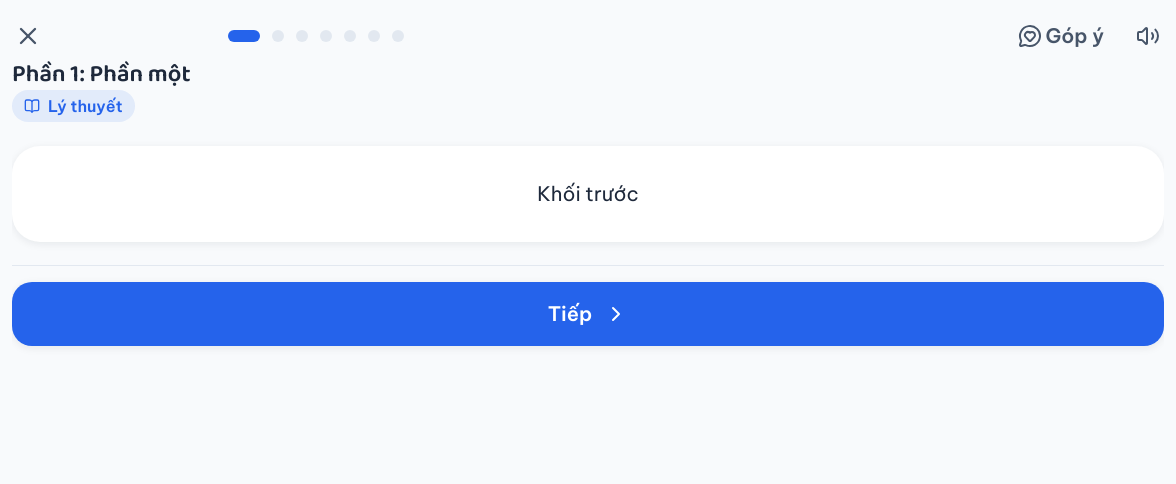
a guided theory screen › lets Xem cách làm show the answer and go on
Click the button "Tiếp". click: coordinates (588, 314)
box: [12,282,1164,346]
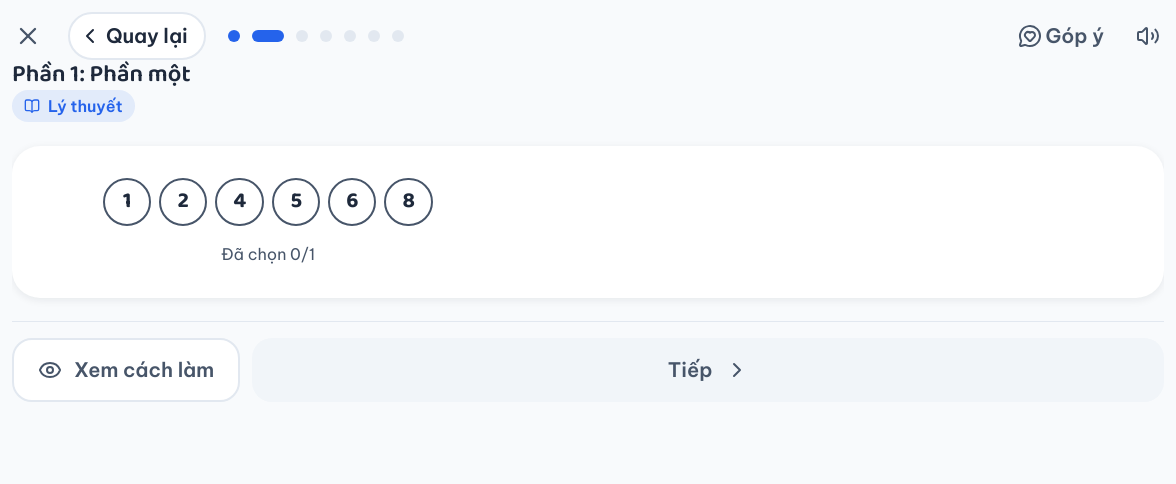
Click the button "Xem cách làm". click: coordinates (126, 370)
box: [12,338,240,402]
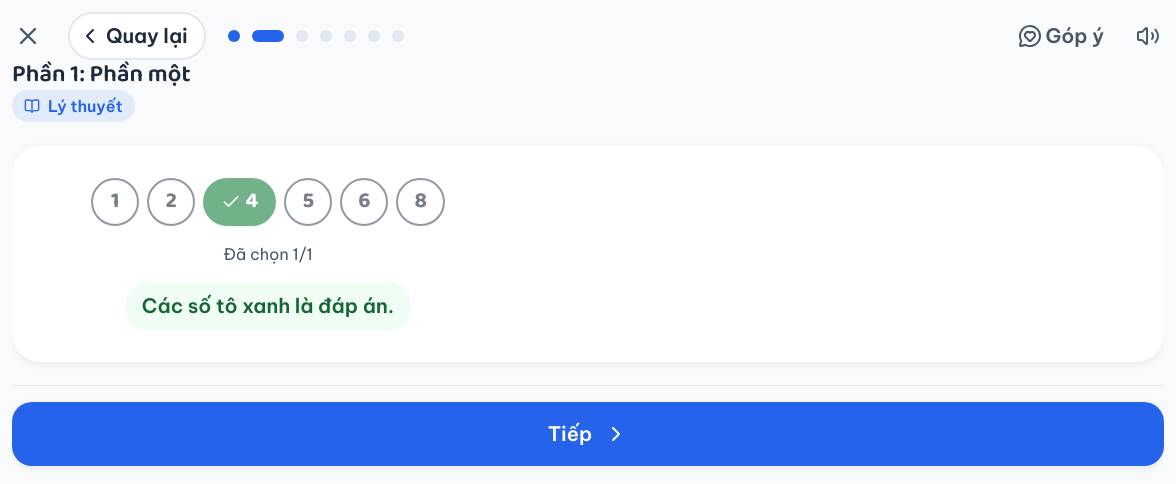
Now the button "Tiếp" is enabled
Click the button "Tiếp". click: coordinates (588, 434)
box: [12,402,1164,466]
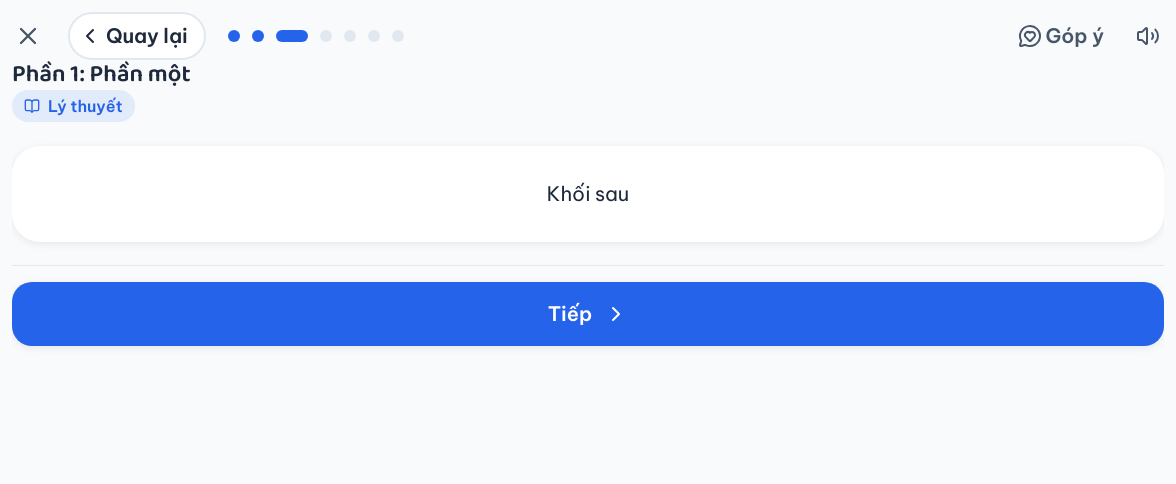
Now the text "Khối sau" is shown, box [547,178,629,210]
